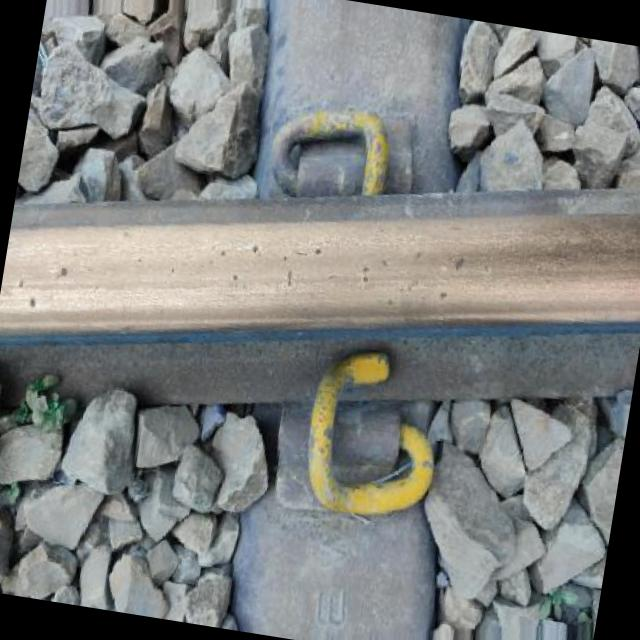non-defective: (0, 118, 640, 510)
